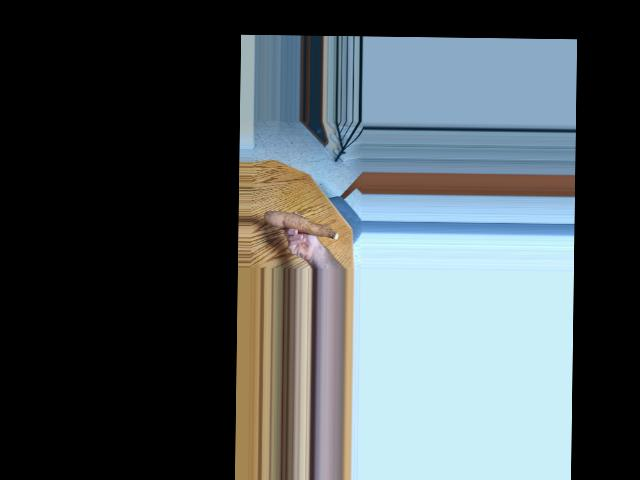sweet_potato: (267, 206, 337, 240)
